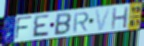B: (53, 12, 72, 37)
E: (32, 14, 51, 38)
F: (14, 16, 34, 41)
H: (110, 5, 130, 31)
R: (72, 11, 91, 33)
V: (94, 7, 112, 32)
